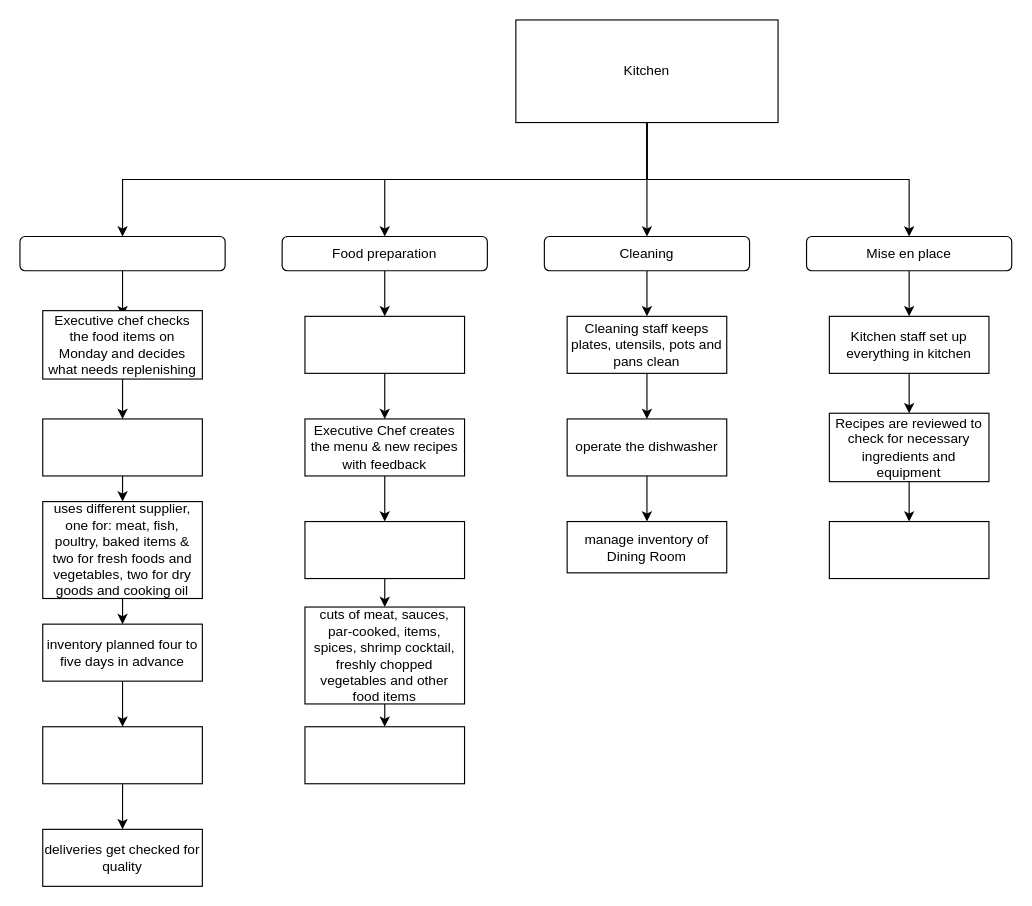
This 1032x906 diagram has some shape labels left out. The shapes that lost their labels are listed below. From the top down, each one's centre as x and y in pixels, then its label:
the point at 122,253: Stock Management
the point at 384,344: Executive Chef in charge of operating the Kitchen staff
the point at 122,447: orders via phone
the point at 384,549: Food is checked and then washed
the point at 908,549: Spatulas and blenders are prepared for use & ovens preheated
the point at 122,755: Food deliveries arrive throughout the day through the back door
the point at 384,755: Desserts etc. are prepared by the Sous chef
